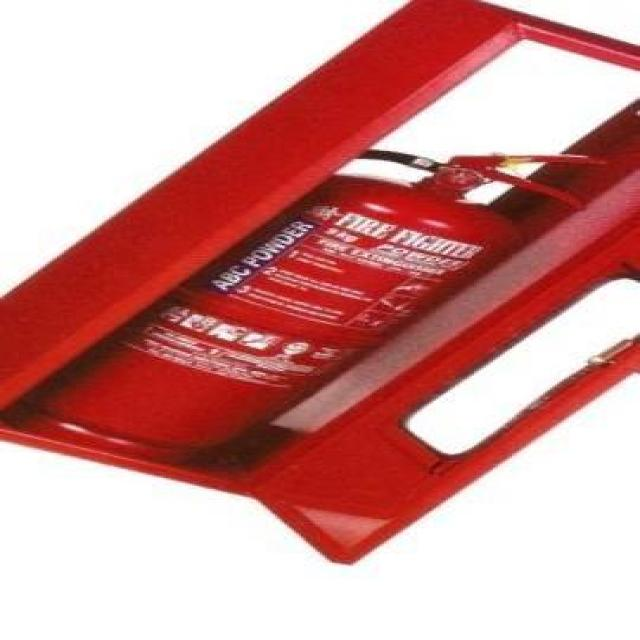fire_extinguisher: (0, 144, 612, 472)
